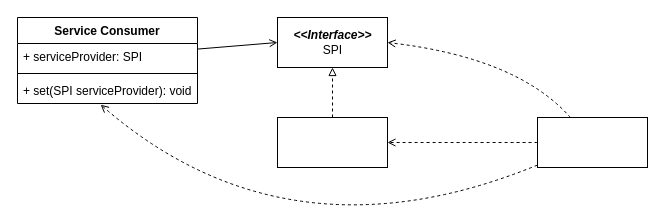
Image size: 665x223. Some labels were removed from this diagram. The centre of each missing label's shape, as x and y in pixels:
AssemblyHandler: [592,142]
Service Provider: [332,142]
